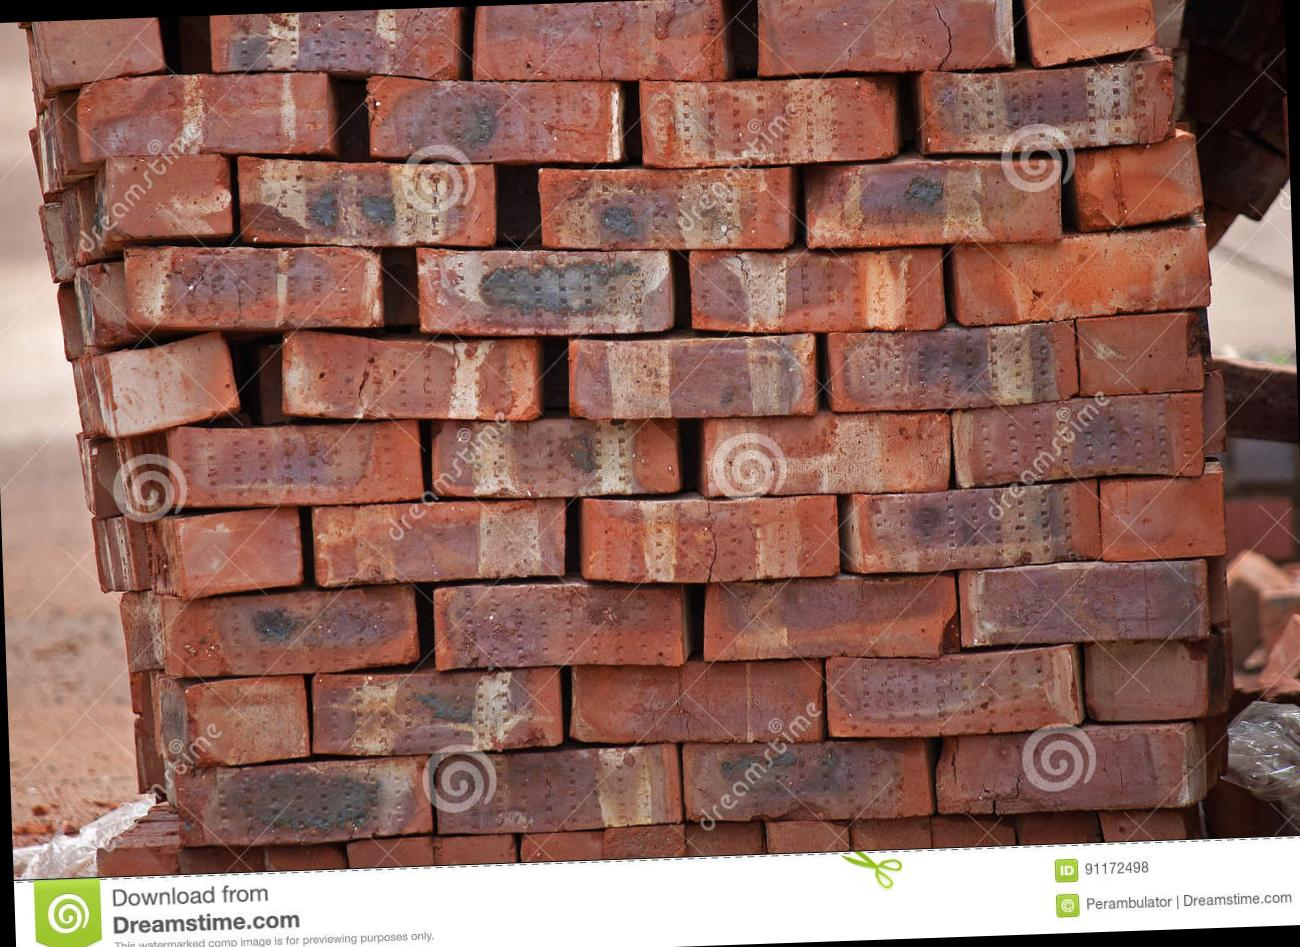brick: (238, 148, 496, 255), (282, 321, 538, 428), (951, 224, 1212, 324), (418, 239, 674, 340), (368, 68, 622, 170), (581, 490, 840, 587), (640, 71, 897, 168), (540, 159, 792, 256), (126, 238, 384, 334), (827, 644, 1084, 739), (75, 67, 331, 162), (922, 57, 1177, 151), (689, 243, 946, 337), (162, 585, 421, 677), (806, 156, 1061, 250), (568, 657, 825, 750), (176, 754, 432, 846), (167, 419, 425, 510), (313, 494, 568, 586), (952, 394, 1204, 487), (435, 581, 683, 674), (703, 572, 956, 664), (856, 478, 1100, 571), (567, 330, 817, 422), (936, 724, 1187, 815), (311, 666, 561, 756), (437, 743, 681, 835), (702, 408, 951, 498), (471, 0, 727, 87), (830, 323, 1079, 412), (683, 737, 931, 825), (432, 415, 679, 501), (960, 560, 1209, 645), (209, 7, 460, 86), (756, 0, 1015, 75), (93, 331, 239, 434), (1073, 132, 1202, 229), (176, 506, 303, 599), (183, 674, 309, 765), (107, 152, 232, 238), (1101, 474, 1225, 559), (1077, 312, 1204, 395), (1085, 637, 1204, 720), (30, 16, 165, 86), (1022, 0, 1158, 66)
